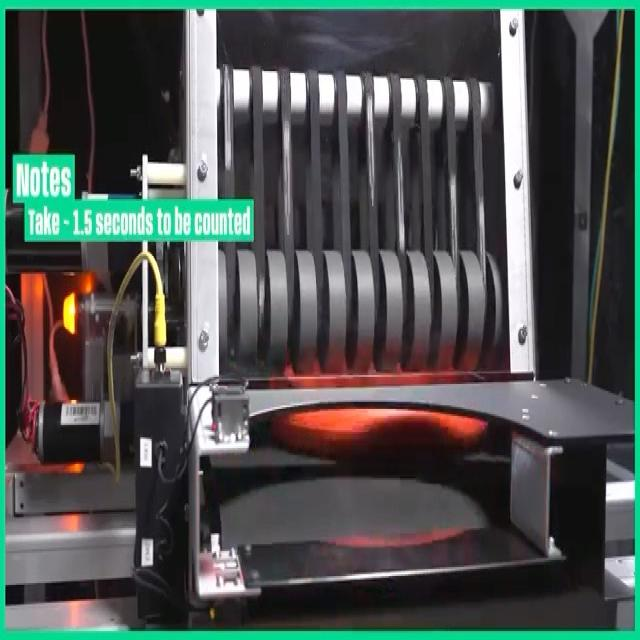note: (271, 367, 494, 464)
